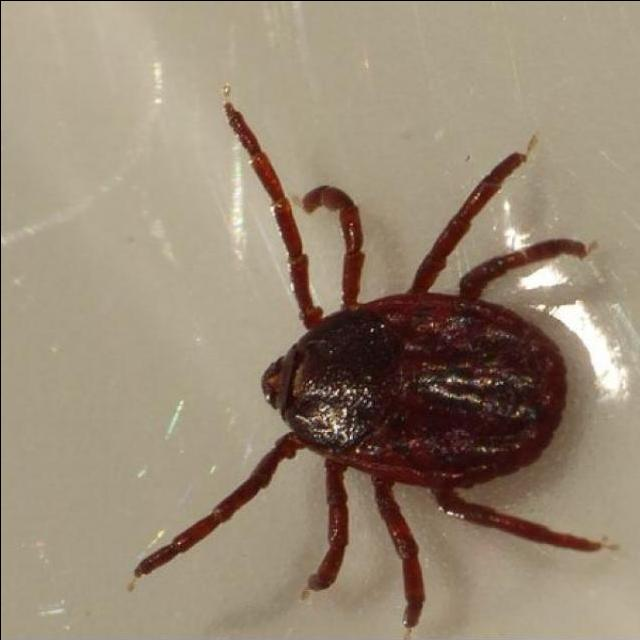Rhipicephalus Sanguineus-F: (133, 90, 607, 633)
